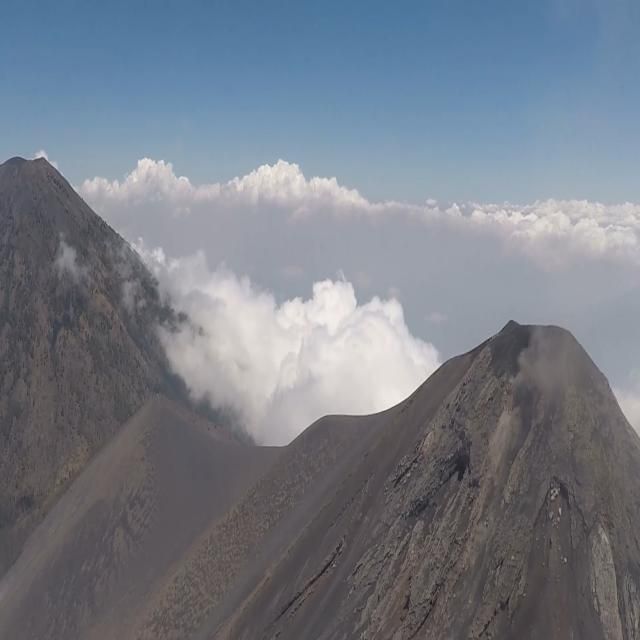Summit: (295, 305, 640, 640)
